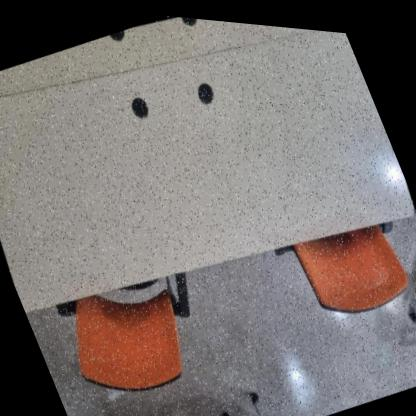Chair: (33, 243, 237, 416), (267, 187, 416, 349)
Table: (0, 0, 416, 367)
